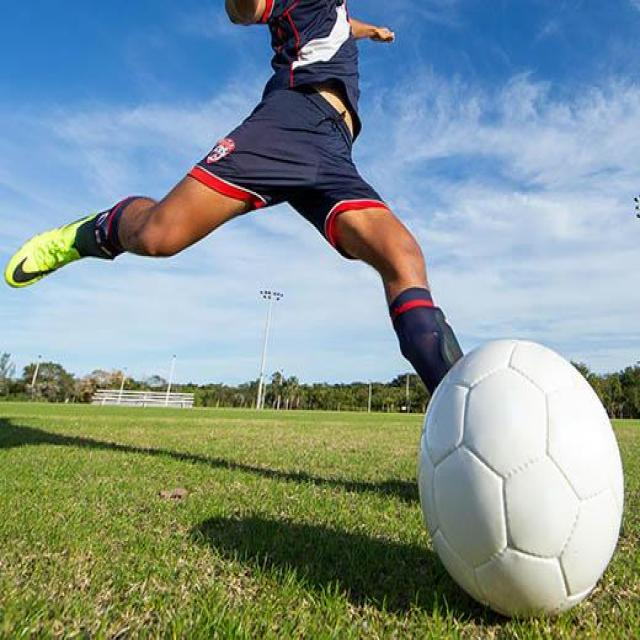Soccer Ball: (417, 340, 624, 616)
